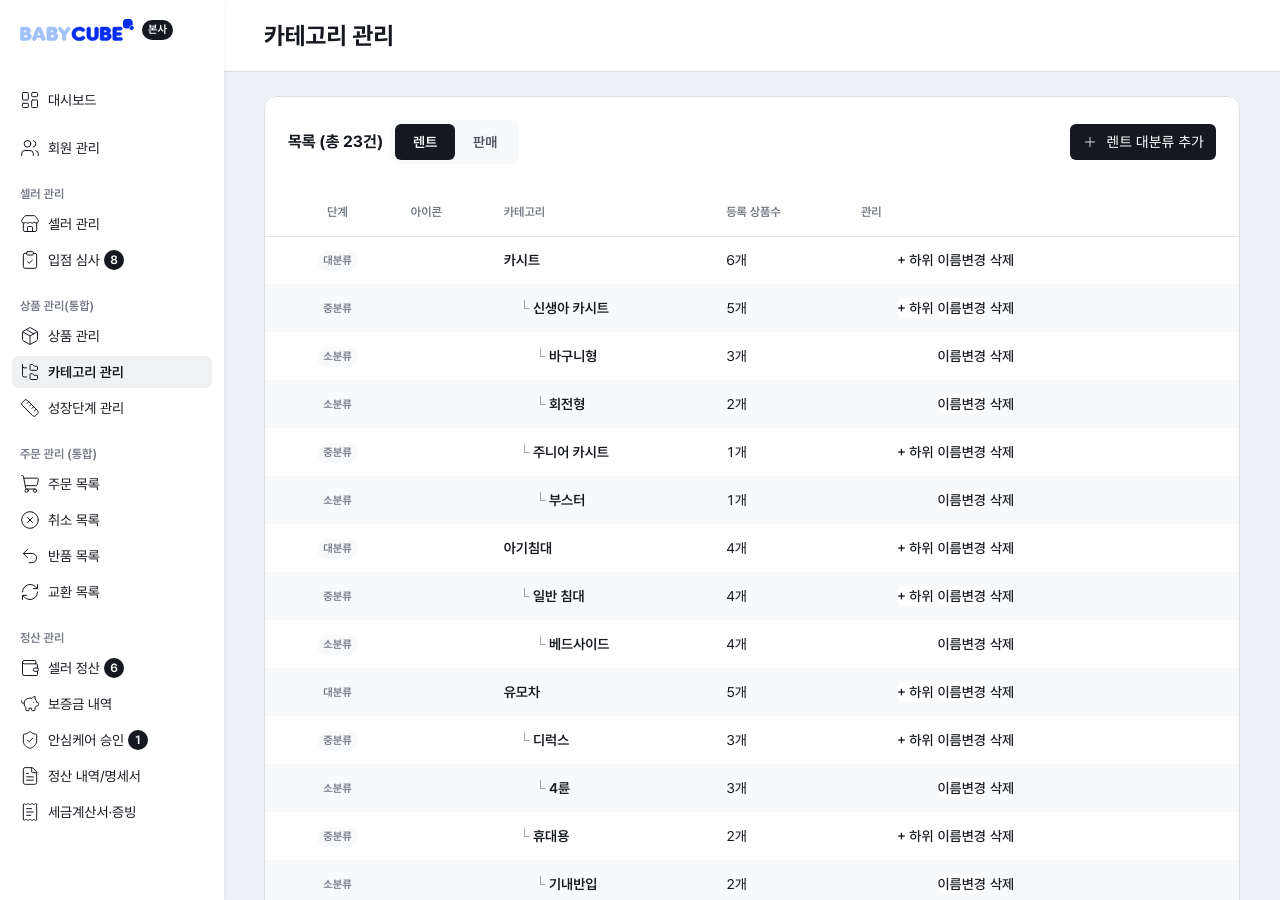
Test: CategoryListPage › 렌트 / 판매 트리 전환 › 판매로 바꾸면 다른 트리가 뜨고 추가 버튼 문구도 따라간다
Expected: the button "렌트 대분류 추가" is shown, 1070,124 -> 1216,160
Click the radio button labelled "판매" at coordinates (485, 142), box 455,124 -> 515,160
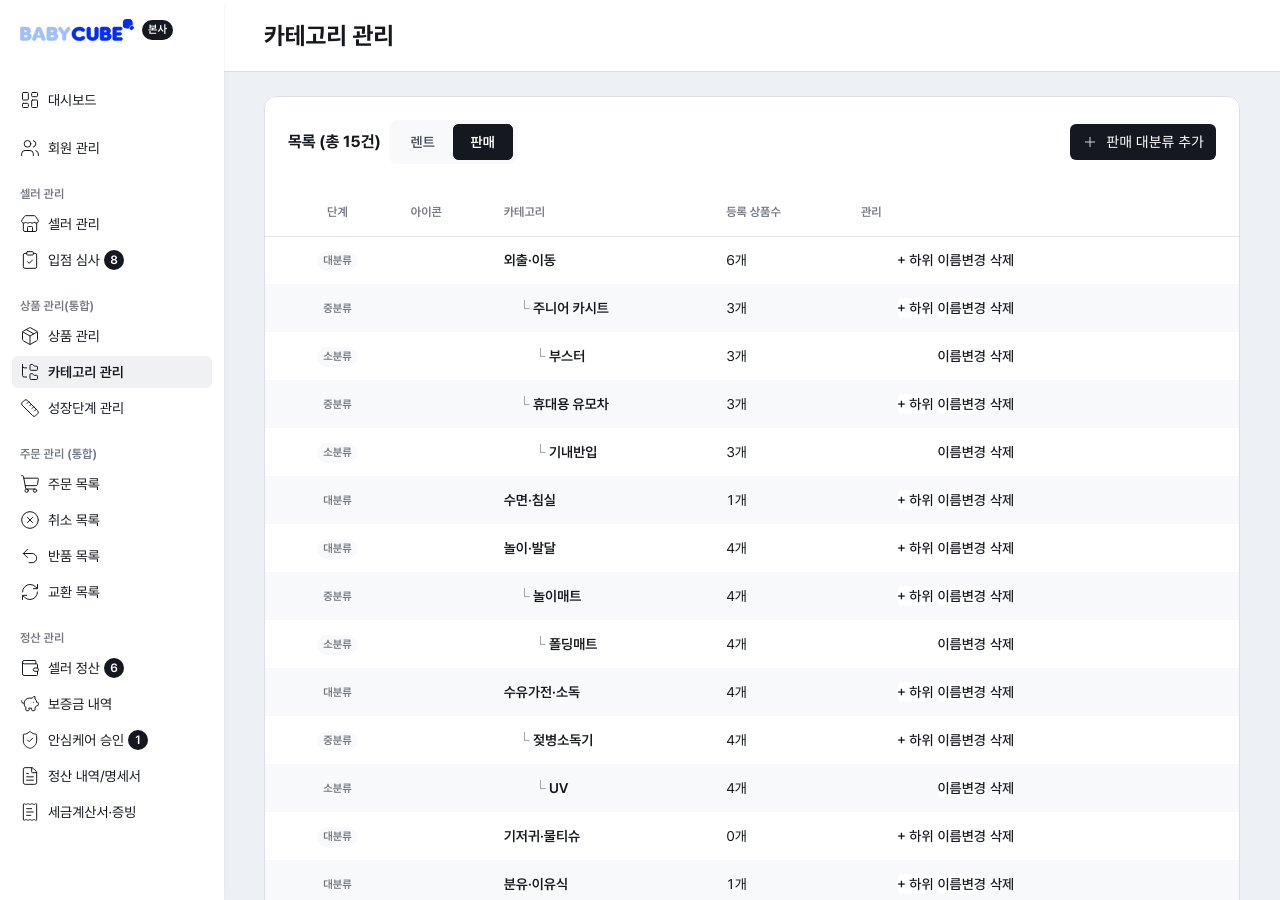
Result: the heading "목록 (총 15건)" is shown at 288,130 -> 381,154
Result: the button "판매 대분류 추가" is shown at 1070,124 -> 1216,160
